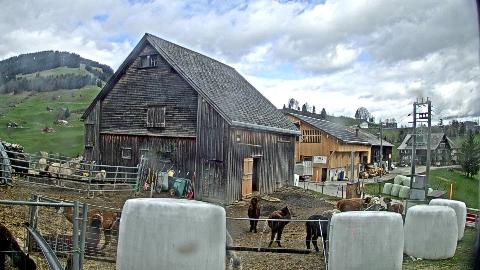car: (391, 164, 396, 172)
sheep: (58, 200, 122, 256), (34, 210, 103, 258), (1, 218, 37, 270), (266, 206, 294, 248), (304, 214, 330, 256), (48, 163, 80, 187), (226, 228, 244, 270), (248, 196, 260, 234), (382, 196, 404, 216), (95, 169, 107, 195), (336, 198, 361, 210), (358, 195, 372, 211), (39, 152, 49, 172), (322, 209, 340, 219), (372, 196, 382, 212)
